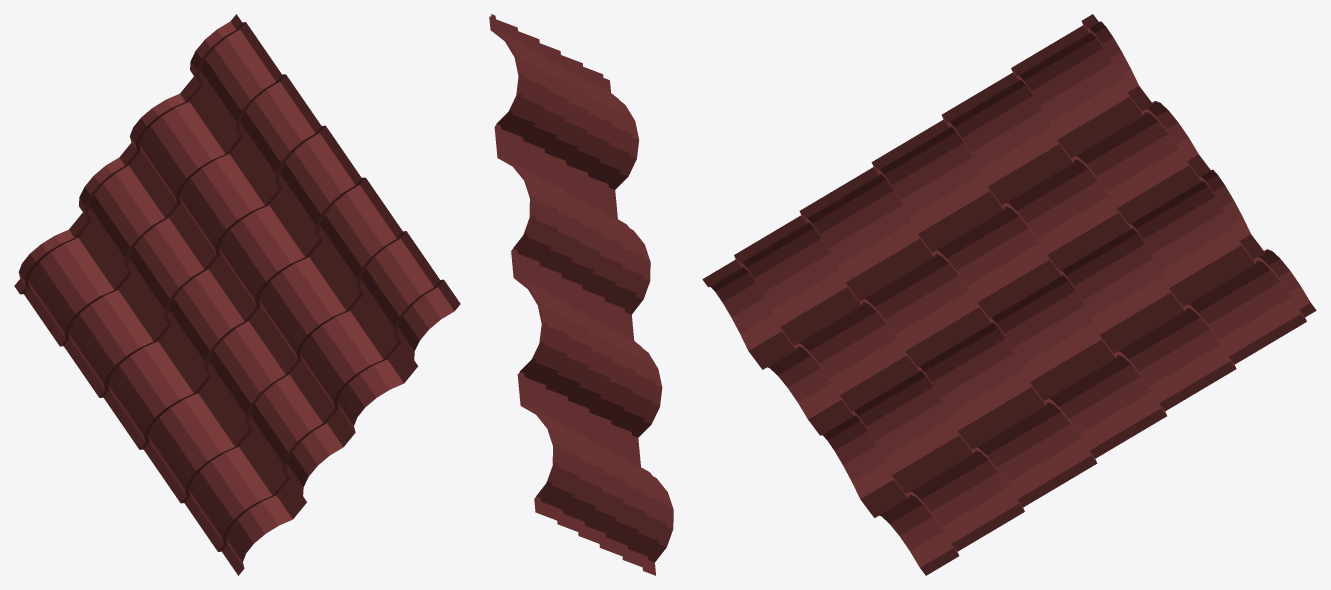
The model's file is tile 1.FBX.
3 views of the same model, side by side, from view 1: azimuth 30°, elevation 25°; view 2: azimuth 150°, elevation 25°; view 3: azimuth 270°, elevation 25° (orthographic). The views are drawn at different scales.
Visible parts, largest first — view 1: Cylinder004; view 2: Cylinder004; view 3: Cylinder004.
Part boxes in pixels (left/top/right/bottom): Cylinder004: left=14, top=14, right=460, bottom=575; Cylinder004: left=489, top=14, right=673, bottom=575; Cylinder004: left=702, top=14, right=1316, bottom=575.
Size of the model in its own units: 56.27 by 135 by 125.
